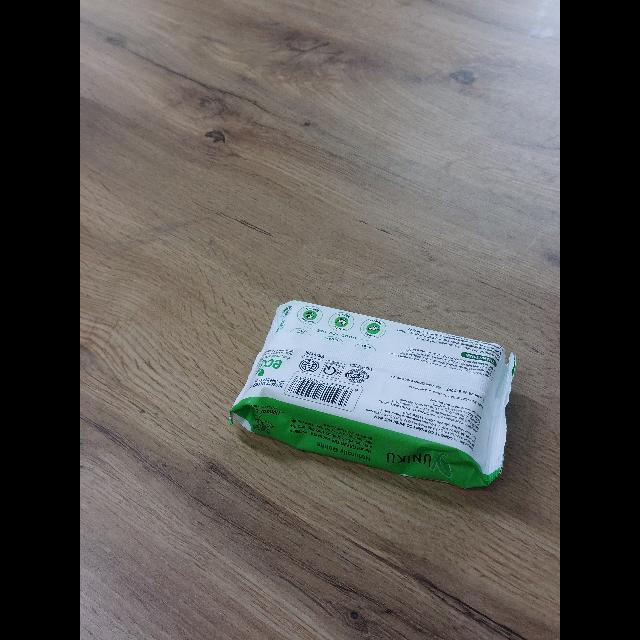khan_giay: (229, 301, 517, 491)
